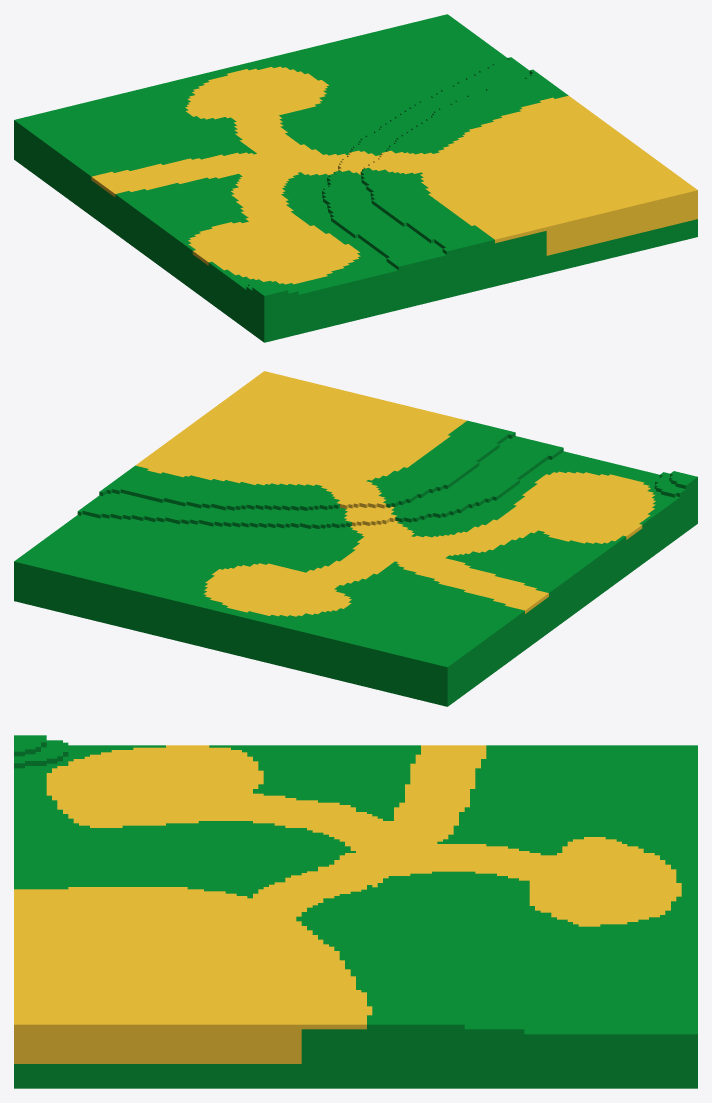
File: lvl_01.obj
The picture shows the model from 3 angles, top to bottom: view 1: azimuth 30°, elevation 25°; view 2: azimuth 150°, elevation 25°; view 3: azimuth 270°, elevation 25°; orthographic projection. The views are drawn at different scales.
Bounding box in the file's own units: 12.6 × 1.3 × 12.6.
Materials: 1 (1 with a texture image).
